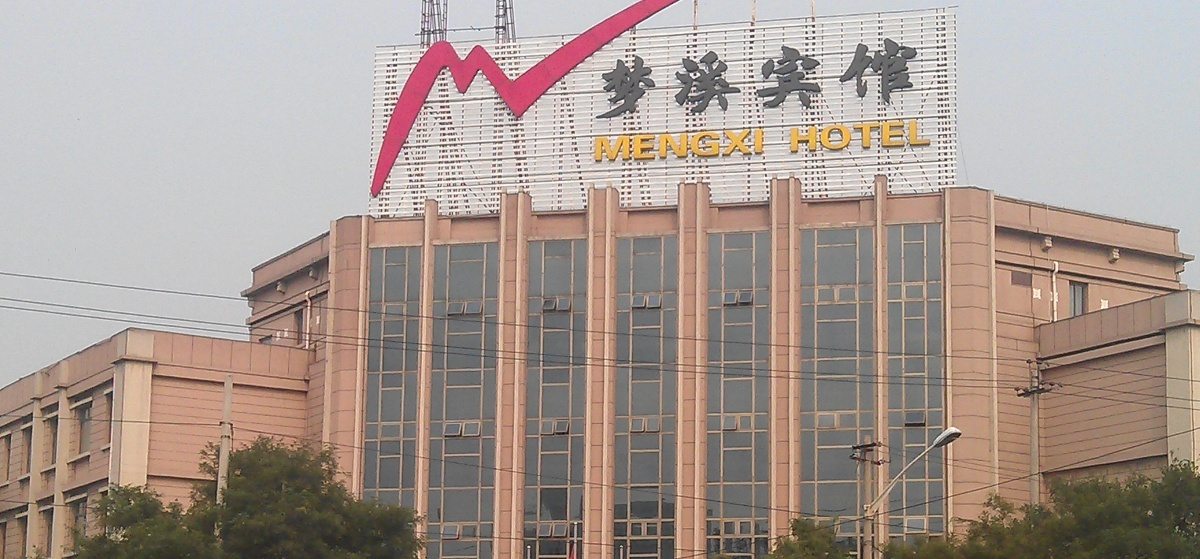text: (593, 34, 608, 119), (609, 34, 624, 119), (625, 34, 640, 119), (641, 34, 656, 119), (657, 34, 672, 119), (673, 34, 688, 119), (689, 34, 704, 119), (705, 34, 720, 119), (721, 34, 736, 119), (737, 34, 752, 119), (753, 34, 768, 119), (769, 34, 784, 119), (785, 34, 800, 119), (801, 34, 816, 119), (817, 34, 832, 119), (833, 34, 848, 119), (849, 34, 864, 119), (865, 34, 880, 119), (881, 34, 896, 119), (897, 34, 912, 119), (913, 34, 925, 119), (609, 126, 624, 169), (625, 126, 640, 169), (641, 126, 656, 169), (657, 126, 672, 169), (673, 126, 688, 169), (689, 126, 704, 169), (705, 126, 720, 169), (721, 126, 736, 169), (737, 126, 752, 169), (594, 126, 608, 169), (753, 126, 767, 169), (801, 117, 816, 156), (817, 117, 832, 156), (833, 117, 848, 156), (849, 117, 864, 156), (865, 117, 880, 156), (881, 117, 896, 156), (897, 117, 912, 156), (913, 117, 928, 156), (787, 117, 800, 156), (929, 117, 933, 156)
